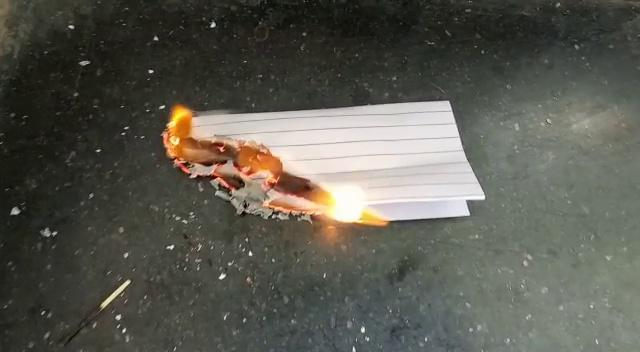fire: (152, 105, 366, 247)
